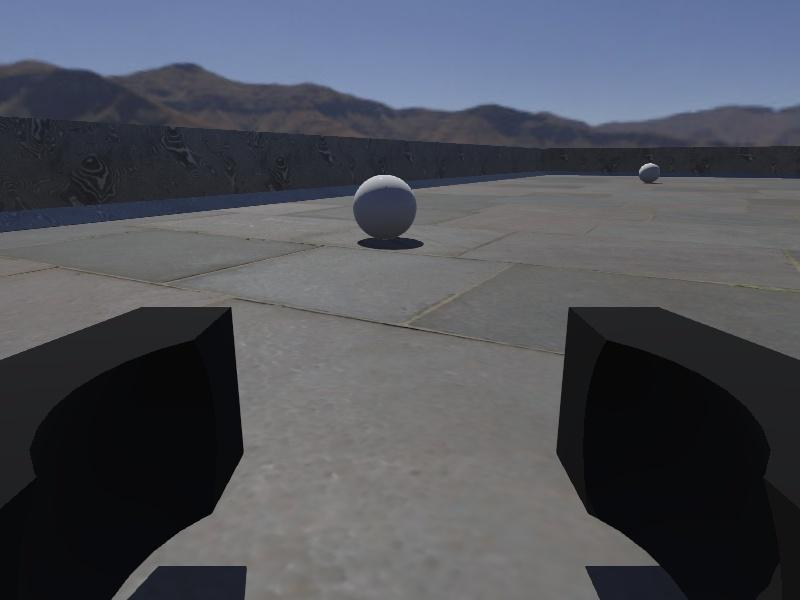white ball: (352, 174, 418, 240), (638, 162, 661, 185)
